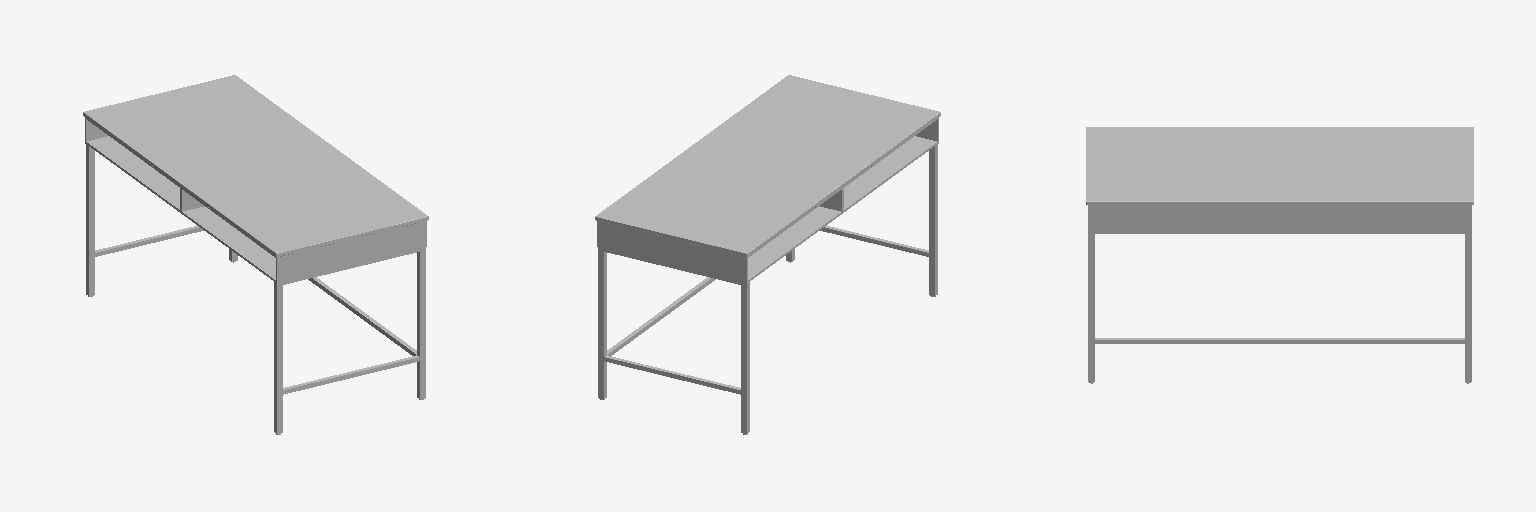
Rendered from Desk.obj.
3 views of the same model, side by side, from view 1: azimuth 30°, elevation 25°; view 2: azimuth 150°, elevation 25°; view 3: azimuth 270°, elevation 25° (orthographic).
Visible parts, largest first — view 1: Desk_Mesh.001; view 2: Desk_Mesh.001; view 3: Desk_Mesh.001.
Boxes of the visible parts, <box> form: Desk_Mesh.001: <box>83,75,428,434</box>; Desk_Mesh.001: <box>595,75,940,434</box>; Desk_Mesh.001: <box>1086,127,1473,383</box>.
Bounding box in the file's own units: 3.83 × 4.41 × 8.44.